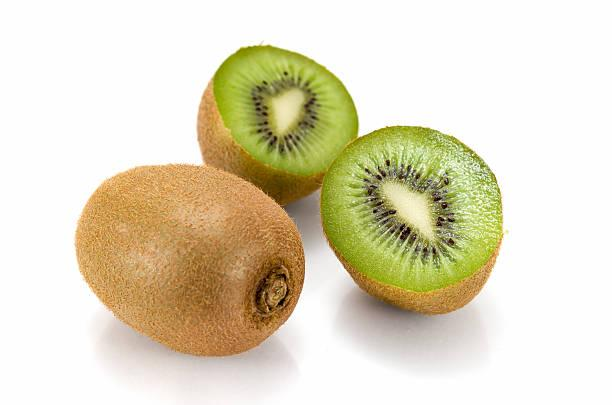kiwi: (60, 156, 312, 383), (315, 119, 512, 340), (185, 32, 354, 196)
